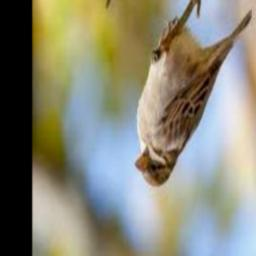Sparrow: (134, 7, 252, 189)
